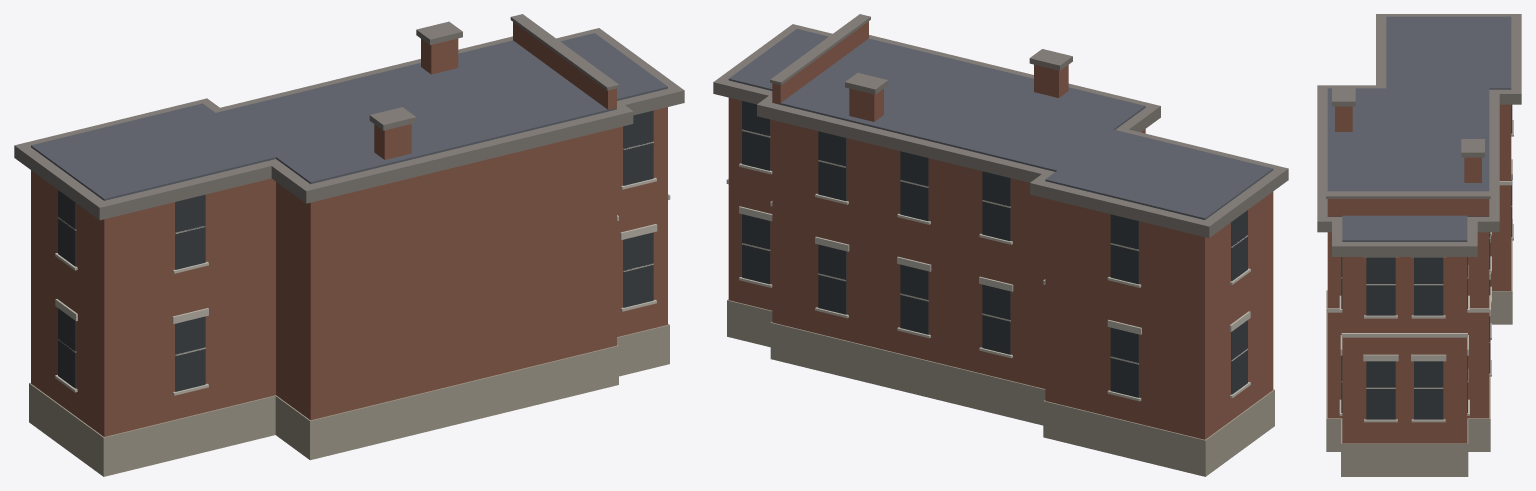
The model's file is mark_kimball_house_2108_prairie__draft_1904.glb.
3 views of the same model, side by side, from view 1: azimuth 30°, elevation 25°; view 2: azimuth 150°, elevation 25°; view 3: azimuth 270°, elevation 25° (orthographic). The views are drawn at different scales.
Parts seen in each view (by area): view 1: mark_kimball_house_2108_prairie__draft_1904; view 2: mark_kimball_house_2108_prairie__draft_1904; view 3: mark_kimball_house_2108_prairie__draft_1904.
Boxes of the visible parts, x1=… form: mark_kimball_house_2108_prairie__draft_1904: x1=14, y1=14, x2=684, y2=476; mark_kimball_house_2108_prairie__draft_1904: x1=713, y1=14, x2=1288, y2=476; mark_kimball_house_2108_prairie__draft_1904: x1=1317, y1=14, x2=1521, y2=476.
Bounding box in the file's own units: 18.7 × 10.04 × 6.95.
